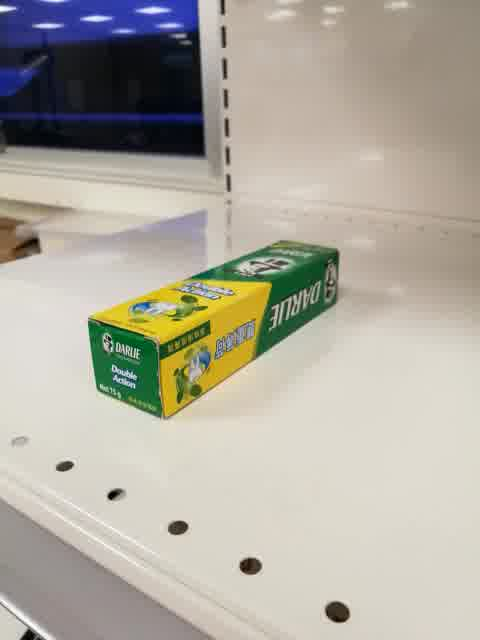toothpaste: (86, 239, 340, 421)
